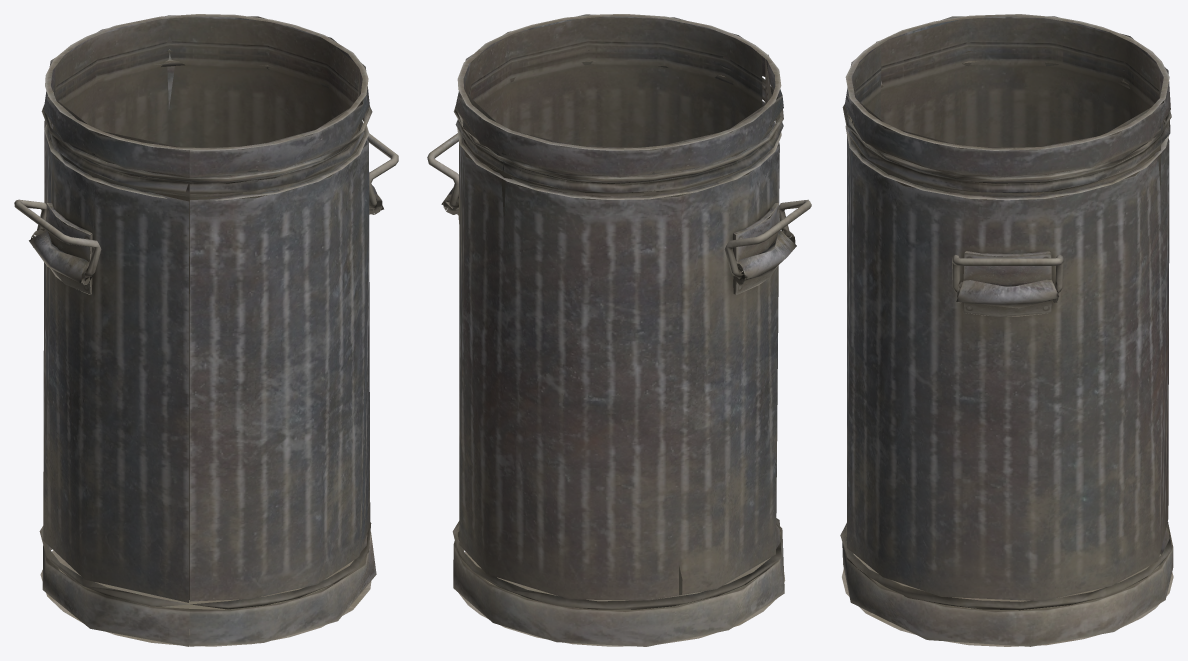
The model's file is trash_can_lo.gltf.
3 renders of one model, left to right at view 1: azimuth 30°, elevation 25°; view 2: azimuth 150°, elevation 25°; view 3: azimuth 270°, elevation 25°, orthographic.
Visible parts, largest first — view 1: metal_trash_can, metal_trash_can_handle_left, metal_trash_can_handle_right; view 2: metal_trash_can, metal_trash_can_handle_left, metal_trash_can_handle_right; view 3: metal_trash_can, metal_trash_can_handle_right.
Part boxes in pixels (x1=…): metal_trash_can: x1=29, y1=14, x2=383, y2=646; metal_trash_can_handle_left: x1=14, y1=199, x2=101, y2=277; metal_trash_can_handle_right: x1=367, y1=133, x2=398, y2=208; metal_trash_can: x1=441, y1=14, x2=796, y2=646; metal_trash_can_handle_left: x1=724, y1=199, x2=811, y2=277; metal_trash_can_handle_right: x1=427, y1=133, x2=458, y2=208; metal_trash_can: x1=840, y1=14, x2=1173, y2=646; metal_trash_can_handle_right: x1=952, y1=255, x2=1063, y2=292.
Bounding box in the file's own units: 0.6507 × 0.9062 × 0.5537.
1 material, 1 textured.
